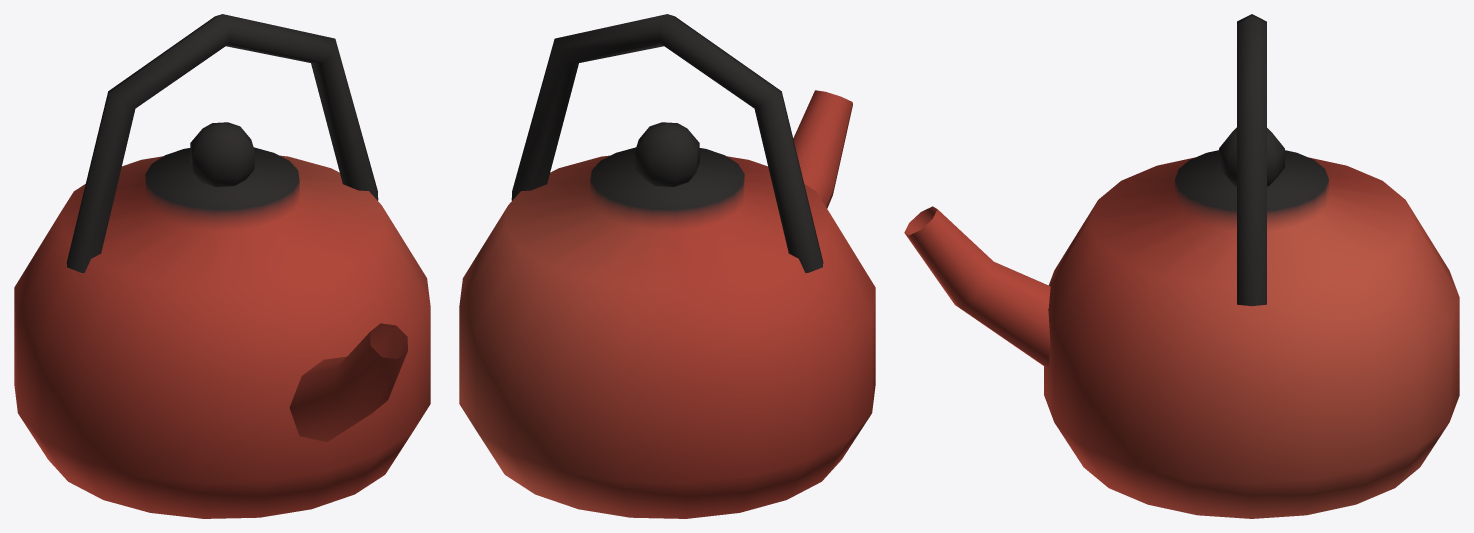
The model's file is Hut_Kettle.fbx.
3 renders of one model, left to right at view 1: azimuth 30°, elevation 25°; view 2: azimuth 150°, elevation 25°; view 3: azimuth 270°, elevation 25°, orthographic.
Parts seen in each view (by area): view 1: Hut_Kettle; view 2: Hut_Kettle; view 3: Hut_Kettle.
Part boxes in pixels (box(x1,y1,x2,y2)): Hut_Kettle: box(14, 14, 430, 518); Hut_Kettle: box(459, 14, 875, 518); Hut_Kettle: box(904, 14, 1459, 518).
Size of the model in its own units: 10.8 by 12.25 by 14.43.
